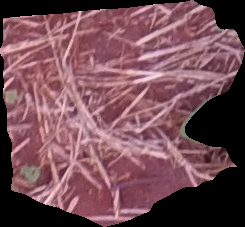soil: (2, 1, 245, 226)
